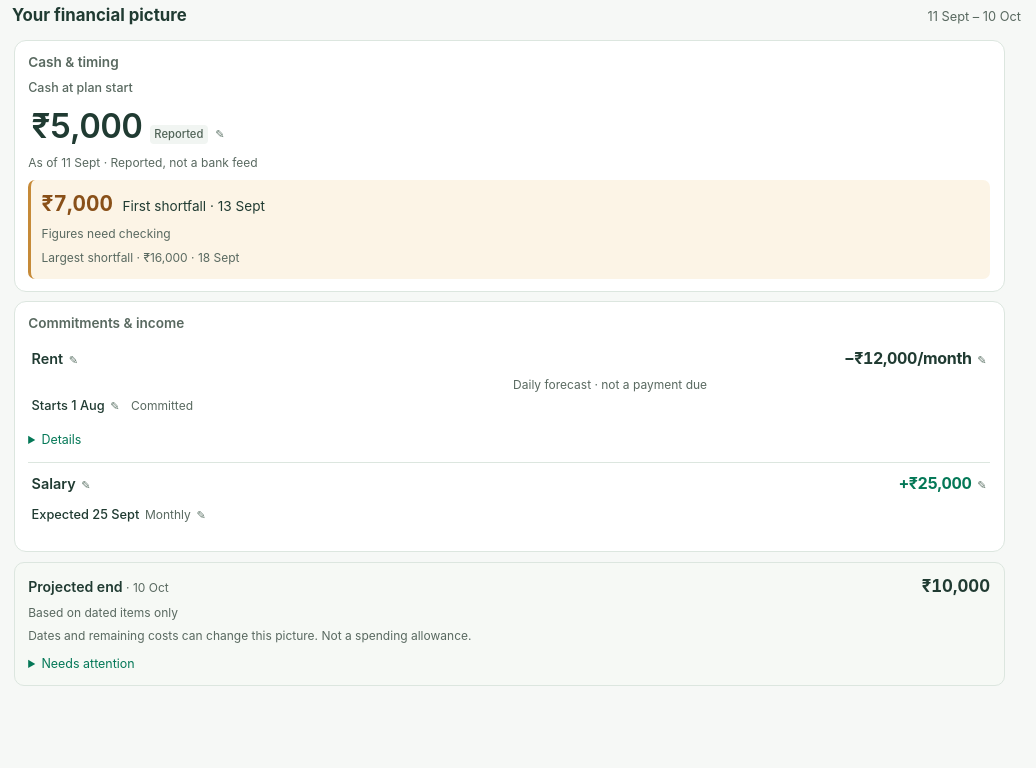
financial companion › shows a monthly source budget once, with a series start instead of daily due rows
Check: the list item "Rent" shows "₹12,000/month", box [841, 344, 990, 376]
Check: the list item "Rent" shows "Daily forecast · not a payment due", box [513, 377, 707, 392]
Click the button with aria-label "Edit Rent series start".
click(76, 410)  # box [28, 394, 123, 426]
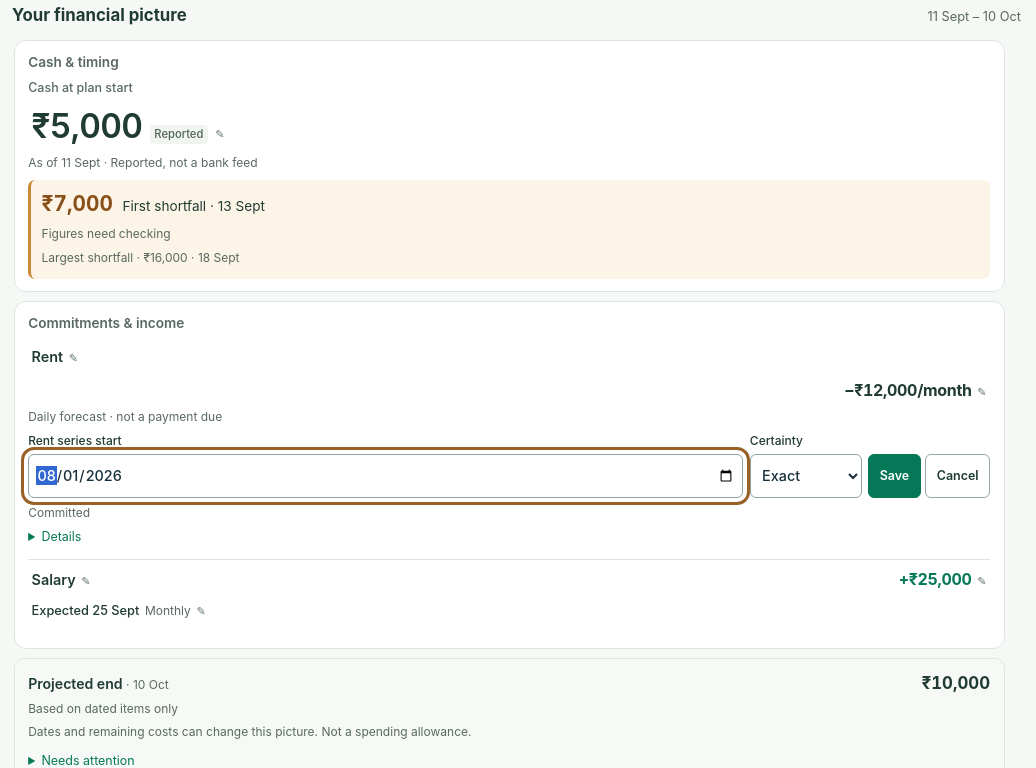
Check: the date field labelled "Rent series start" holds "2026-08-01", box [28, 454, 744, 498]
